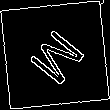M_SE: (21, 21, 89, 89)
